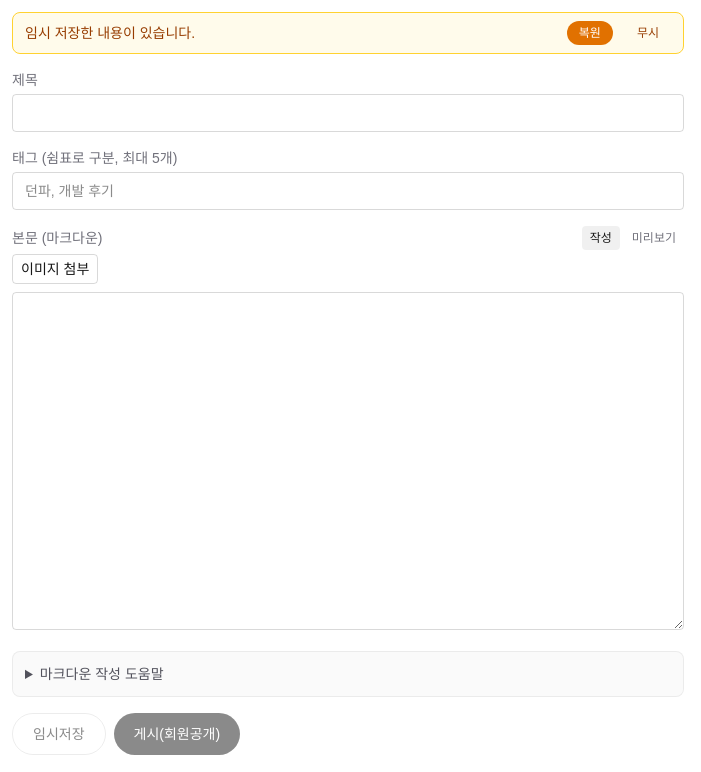
Test: PostEditor 초안 자동저장 › 저장된 초안이 있으면 복원 배너 → 복원 시 본문 채움
Click the button "복원".
click(590, 33)  # box x1=567 y1=21 x2=613 y2=45
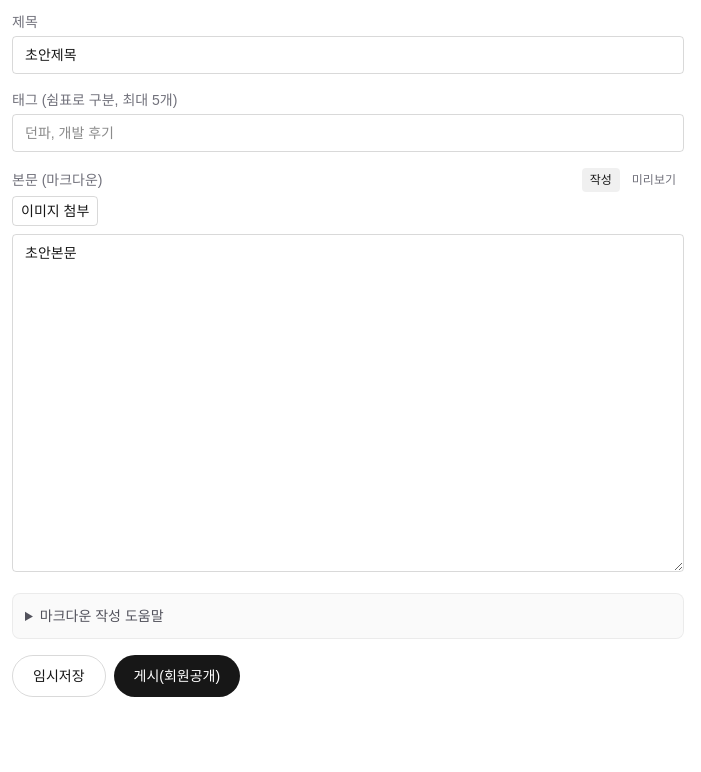
Result: the text box labelled "본문 (마크다운)" holds "초안본문" at x1=12 y1=234 x2=684 y2=572
